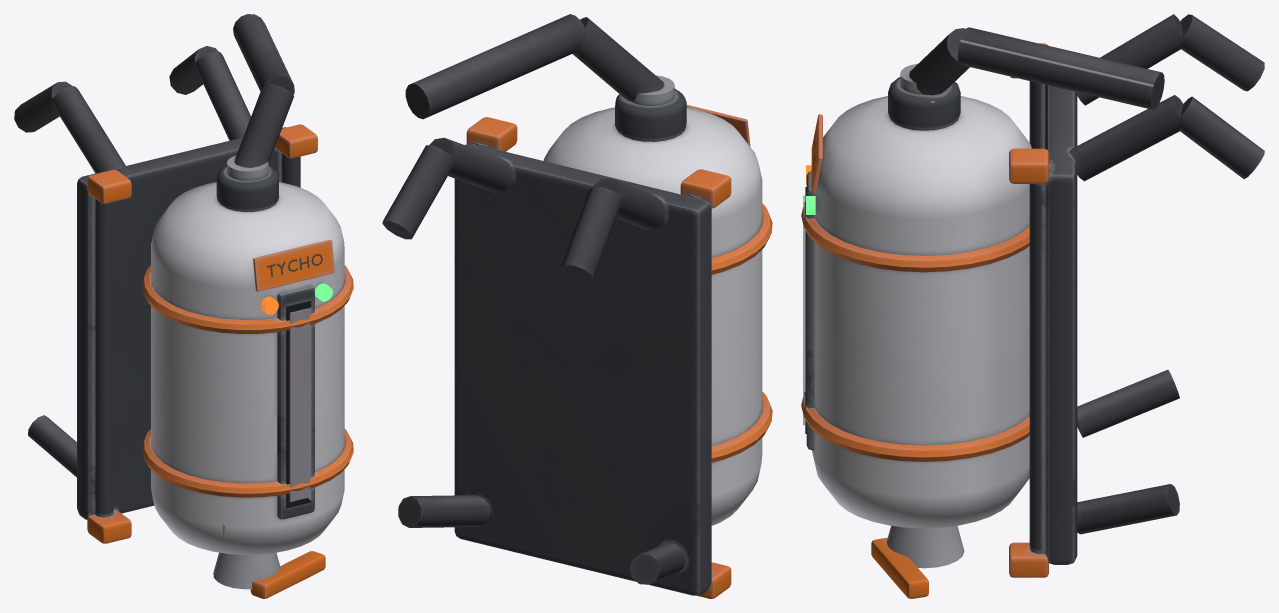
The model's file is dust_pack.glb.
3 renders of one model, left to right at view 1: azimuth 30°, elevation 25°; view 2: azimuth 150°, elevation 25°; view 3: azimuth 270°, elevation 25°, orthographic. The views are drawn at different scales.
Parts seen in each view (by area): view 1: Pack, Fill; view 2: Pack; view 3: Pack.
Boxes of the visible parts, left/top/right/bottom form: Pack: left=14, top=14, right=353, bottom=598; Fill: left=289, top=308, right=309, bottom=501; Pack: left=382, top=14, right=772, bottom=598; Pack: left=801, top=14, right=1264, bottom=598.
Size of the model in its own units: 0.3814 by 0.7663 by 0.576.
1 material, 1 textured.
